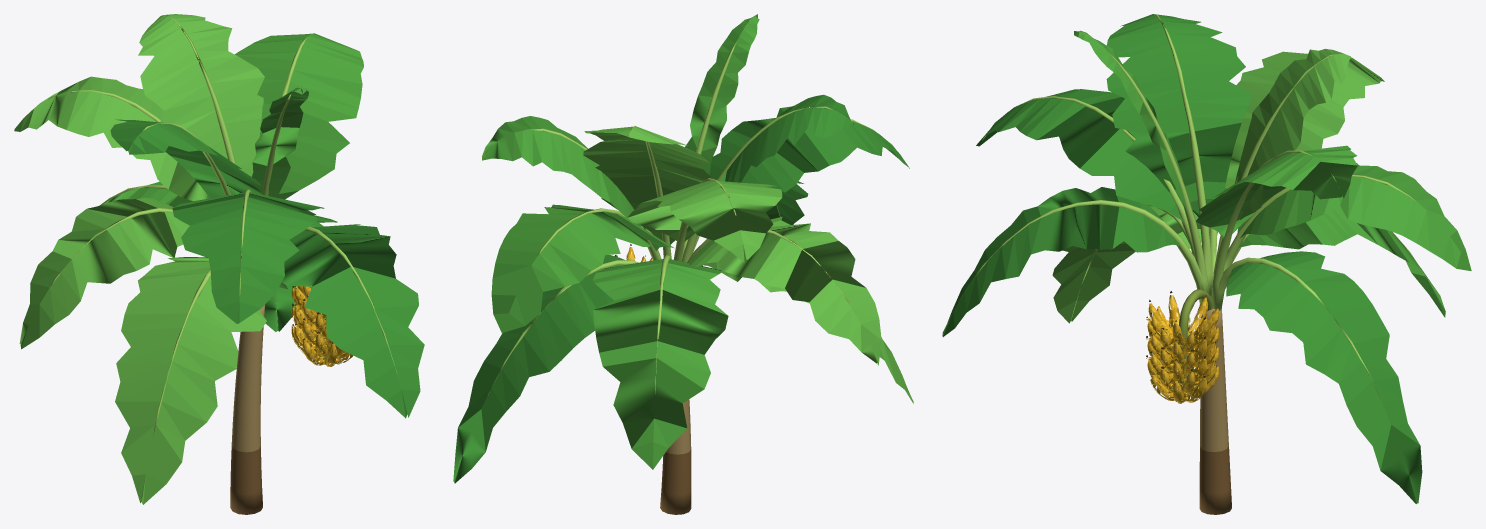
The model's file is 29_3_mid.glb.
3 views of the same model, side by side, from view 1: azimuth 30°, elevation 25°; view 2: azimuth 150°, elevation 25°; view 3: azimuth 270°, elevation 25° (orthographic). The views are drawn at different scales.
Parts seen in each view (by area): view 1: body; view 2: body; view 3: body.
Part boxes in pixels (x1=…): body: x1=14, y1=14, x2=424, y2=514; body: x1=453, y1=14, x2=913, y2=514; body: x1=942, y1=14, x2=1471, y2=514.
Size of the model in its own units: 5.35 by 6.57 by 6.7.
1 material, 1 textured.
